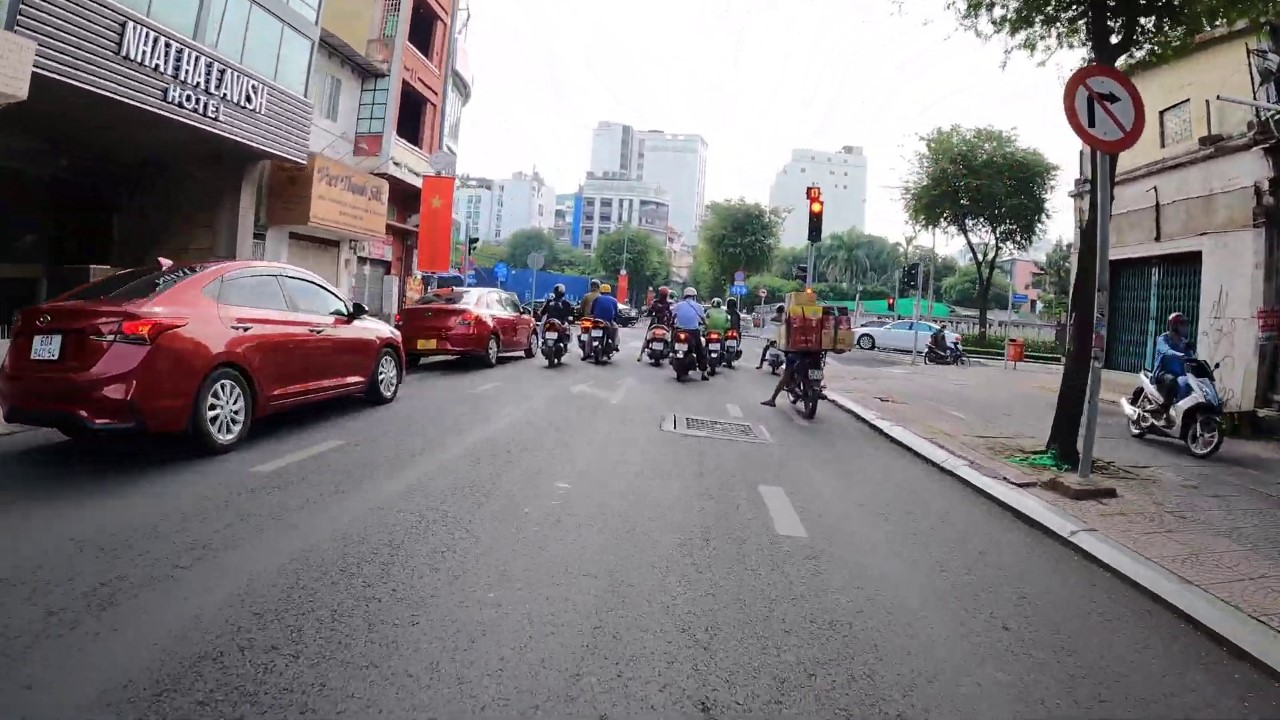cam_re_phai: (1059, 62, 1148, 155)
